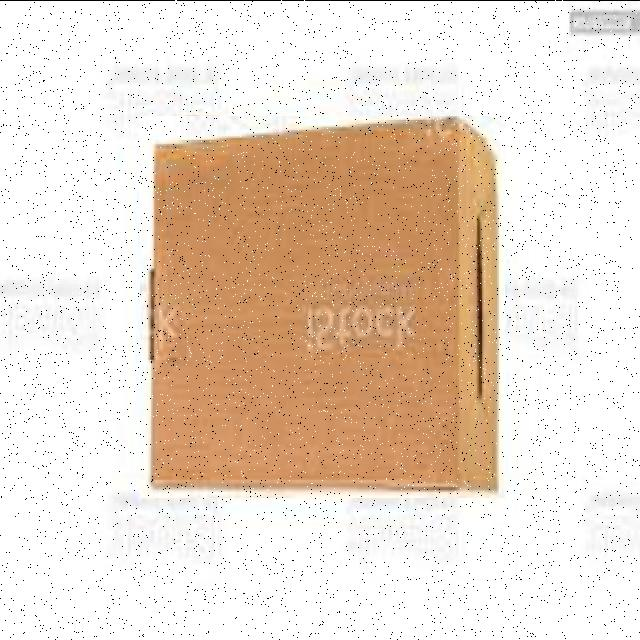normal: (140, 115, 505, 497)
